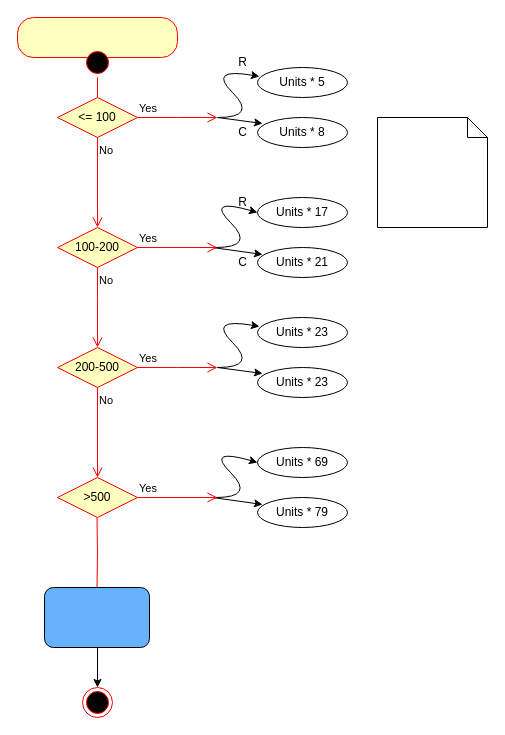
The diagram is 505 pixels wide and 735 high, and some of its shapes have lost their labels. Each missing label, with the box of its shape:
R = R + R*13% C = C + C*17%: (44, 586, 150, 648)
R = Residential C = Commercial: (376, 116, 488, 228)
Total Units Consumed: (16, 16, 178, 58)
